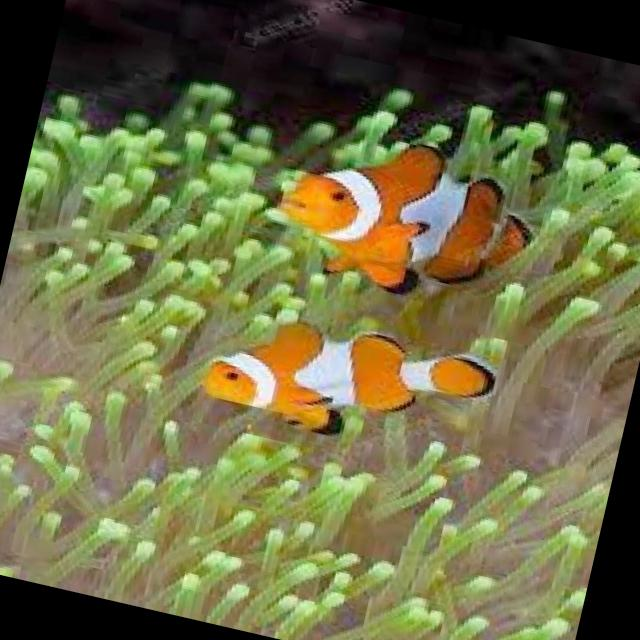ClownFish: (270, 116, 548, 323), (199, 300, 501, 471)
